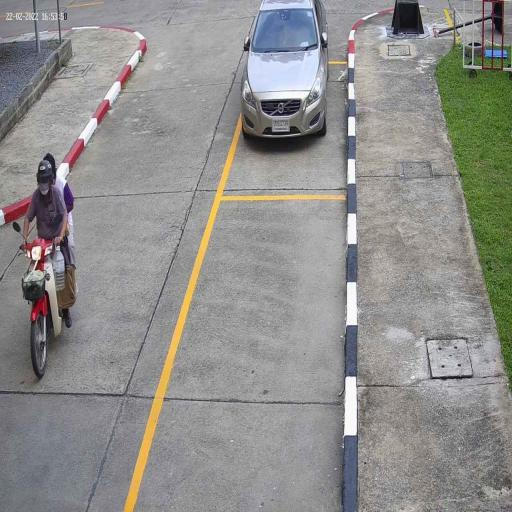car: (240, 0, 329, 140)
motorcycle: (20, 237, 62, 377)
